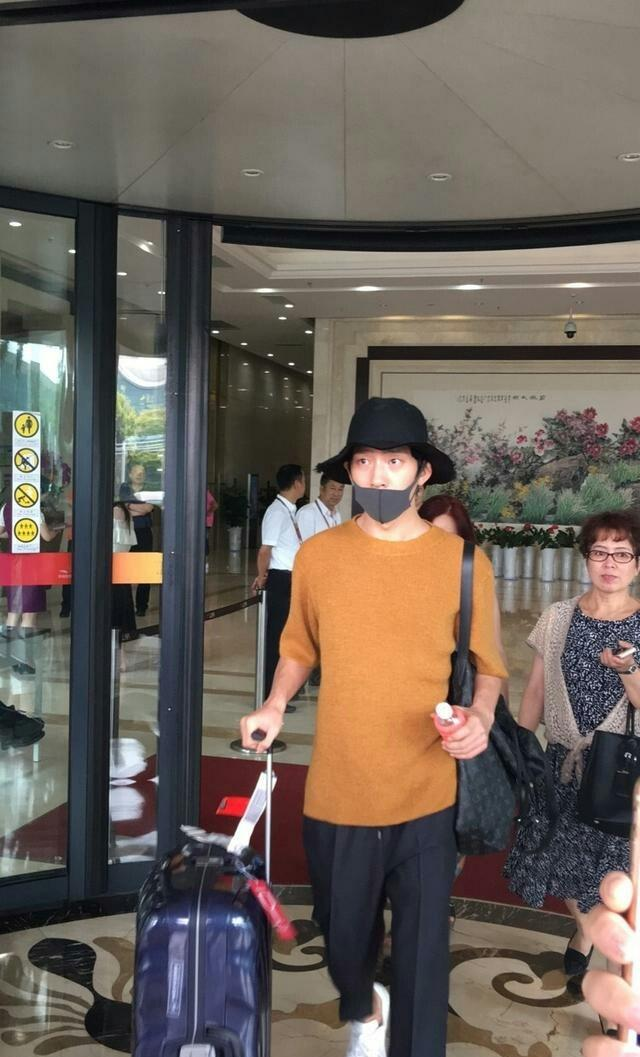NONE: (587, 541, 637, 593), (322, 483, 346, 507), (133, 470, 146, 484)
WRONG: (347, 442, 430, 525)
